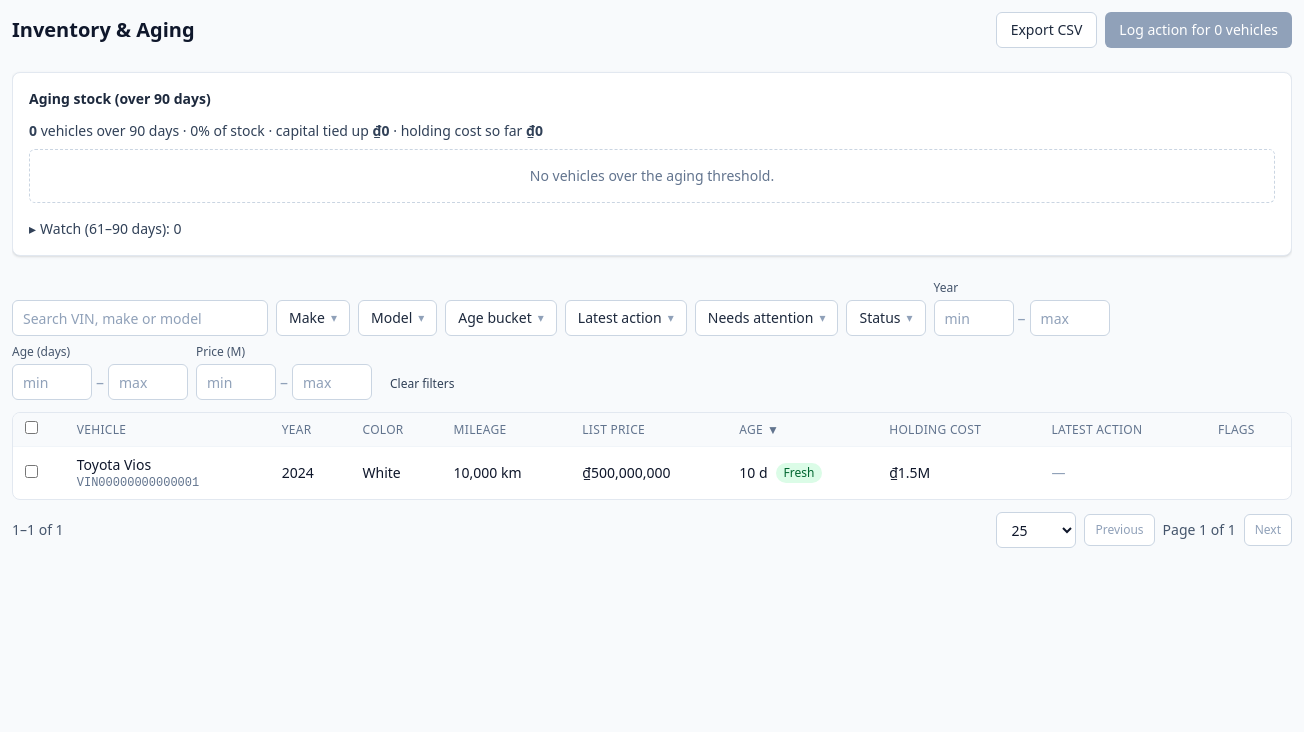
Scenario: InventoryPage › enables the bulk button when vehicles are selected
This screenshot has width=1304, height=732.
Expected: the button "Log action for 0 vehicles" is disabled, [1105,12,1292,48]
Click the checkbox named "Select VIN00000000000001" at [32, 472], box [25,465,38,478]
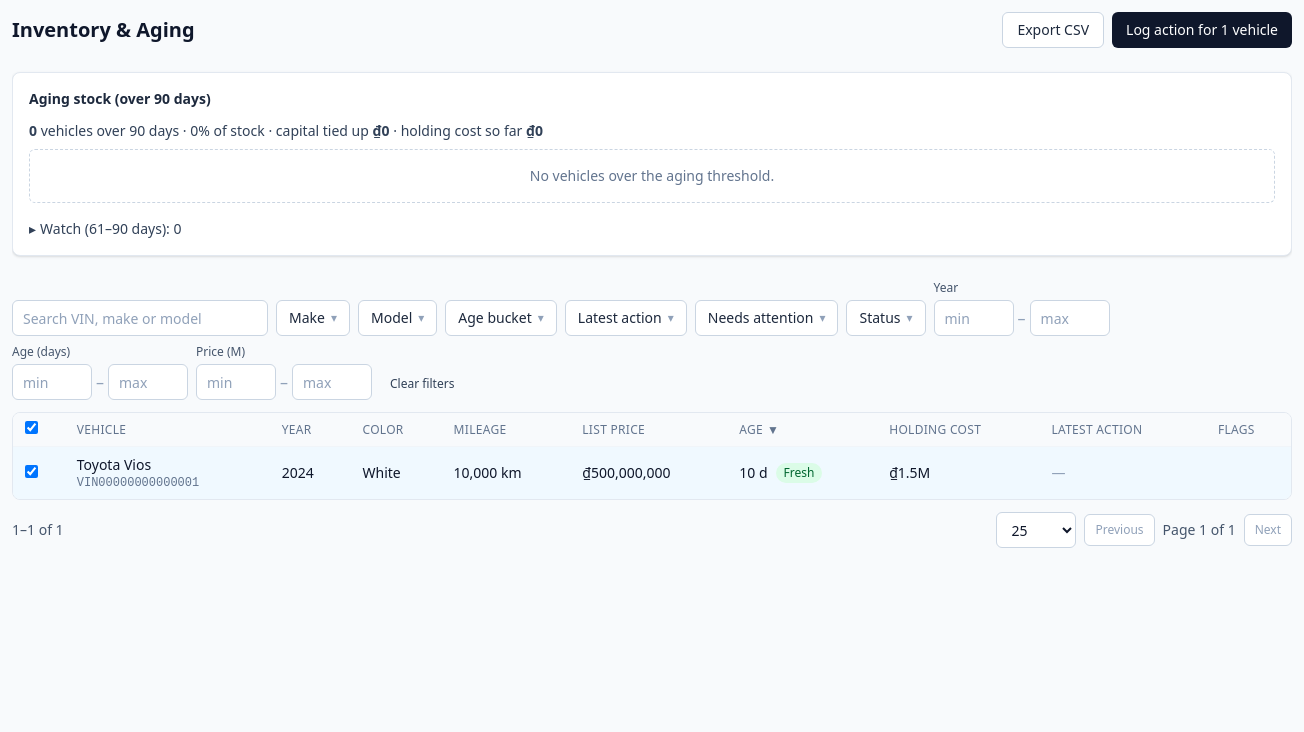
Now the button "Log action for 1 vehicle" is enabled, box [1112,12,1292,48]
